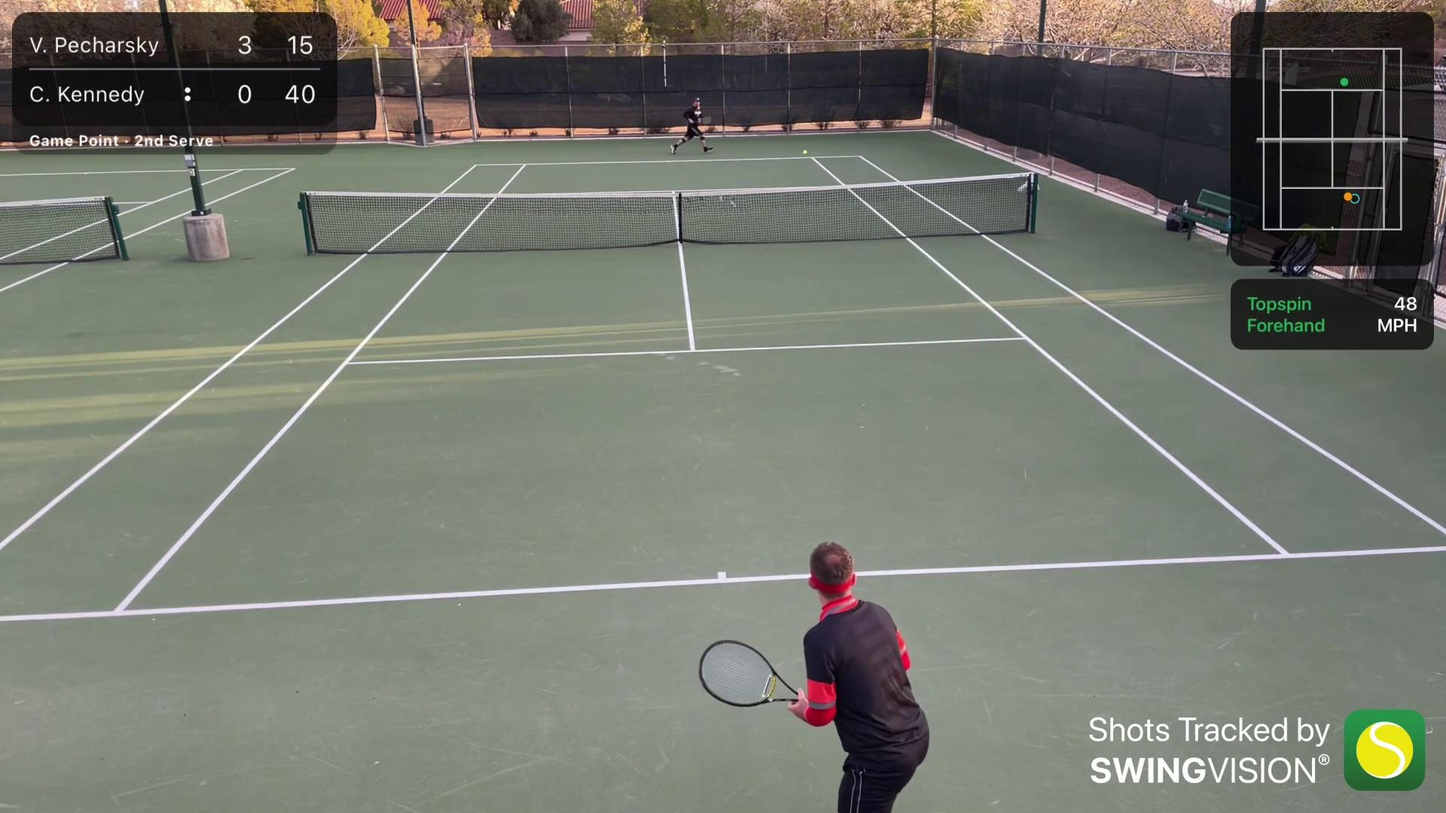ball: (801, 150, 808, 157)
